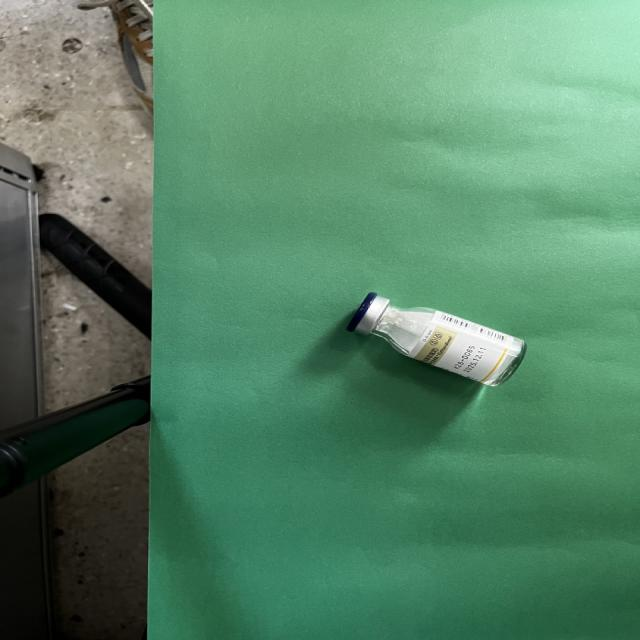Vials: (346, 292, 525, 386)
